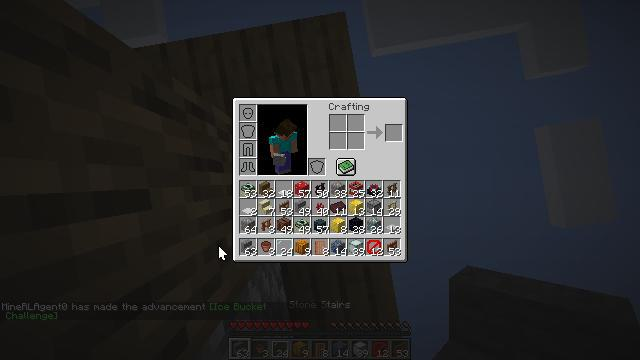cursor: (218, 245, 228, 261)
